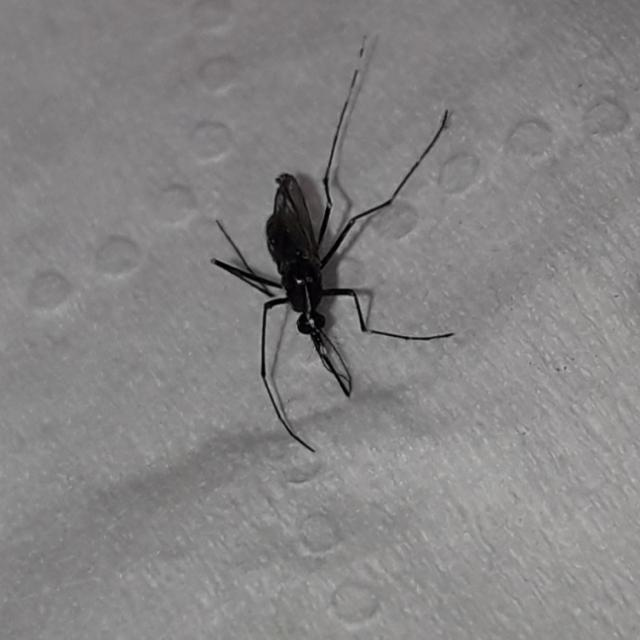albopictus: (174, 26, 464, 459)
